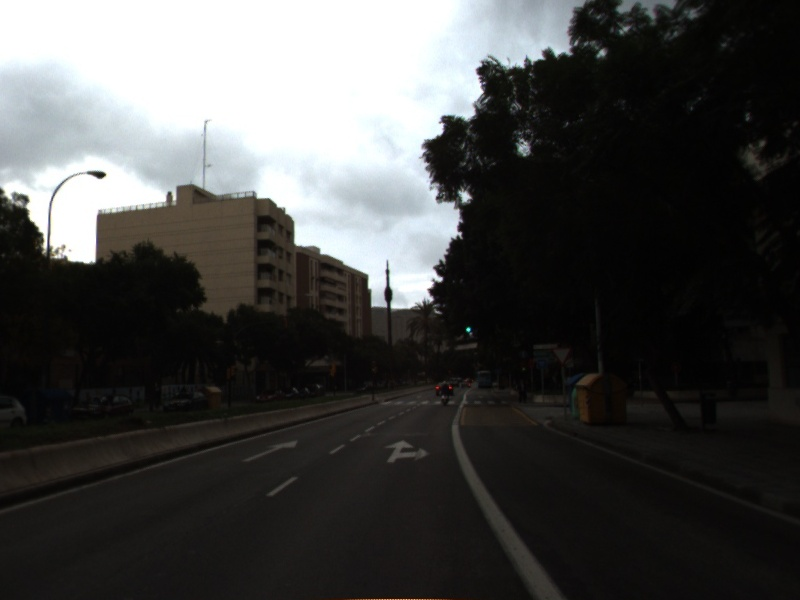STRAIGHT: (240, 438, 300, 464)
STRAIGHT_RIGHT: (382, 438, 432, 464)
